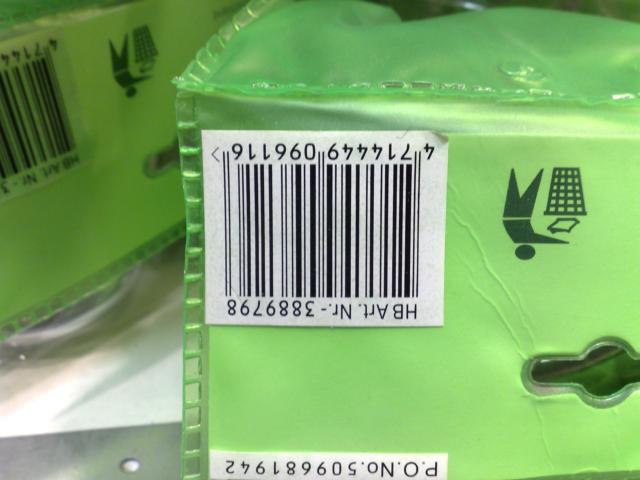Barcode: (203, 129, 443, 326)
